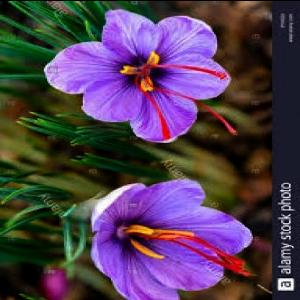Saffron: (46, 8, 228, 137), (91, 177, 256, 299)
